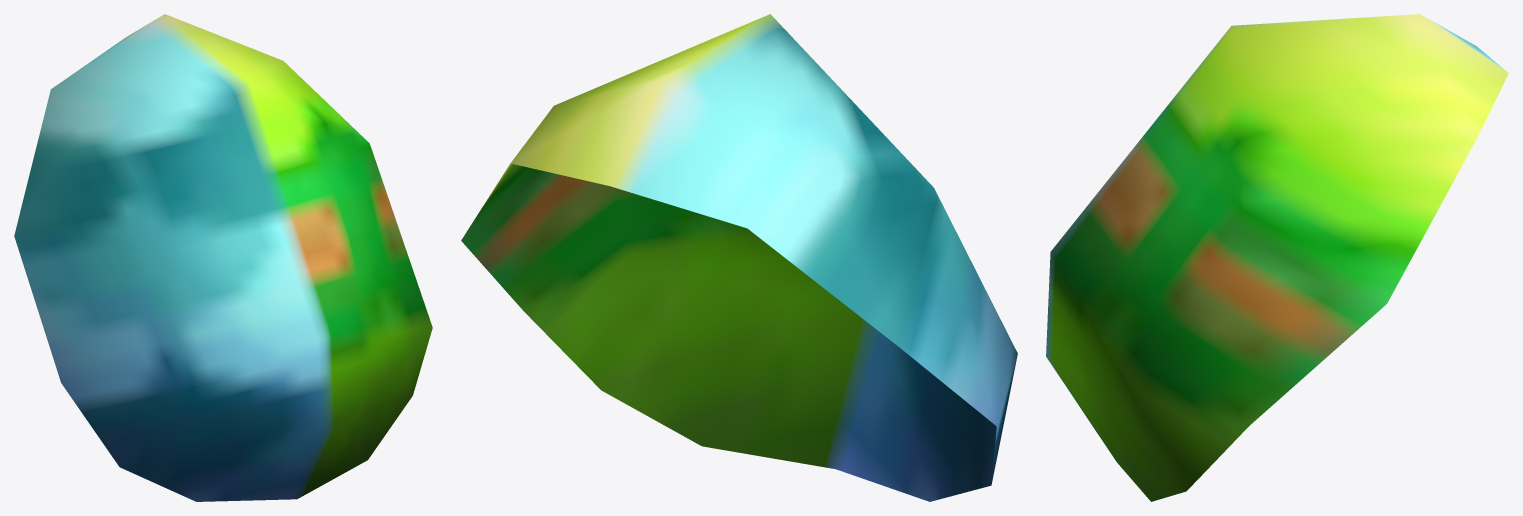
File: fg_egg3_out.dae
The picture shows the model from 3 angles, left to right: view 1: azimuth 30°, elevation 25°; view 2: azimuth 150°, elevation 25°; view 3: azimuth 270°, elevation 25°; orthographic projection. The views are drawn at different scales.
Parts seen in each view (by area): view 1: fg_egg3_out; view 2: fg_egg3_out; view 3: fg_egg3_out.
Part boxes in pixels (x1,y1,x2,y2): fg_egg3_out: (14, 14, 432, 501); fg_egg3_out: (461, 14, 1017, 501); fg_egg3_out: (1046, 14, 1508, 501).
Size of the model in its own units: 11.35 by 11.86 by 11.11.
1 material, 1 textured.
